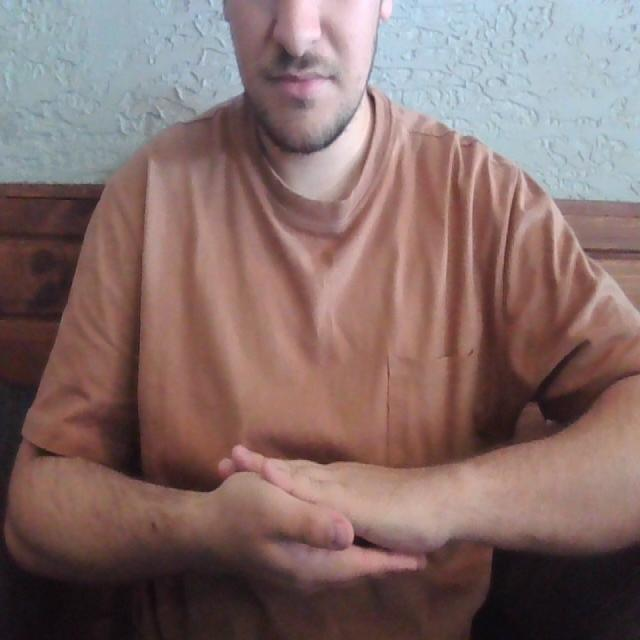Arkadas: (62, 423, 585, 596)
